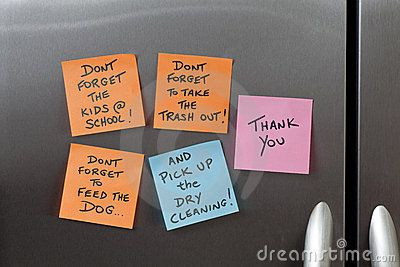Note: (149, 140, 239, 231), (60, 144, 143, 229), (62, 54, 145, 135), (153, 53, 230, 134), (236, 94, 312, 173)
